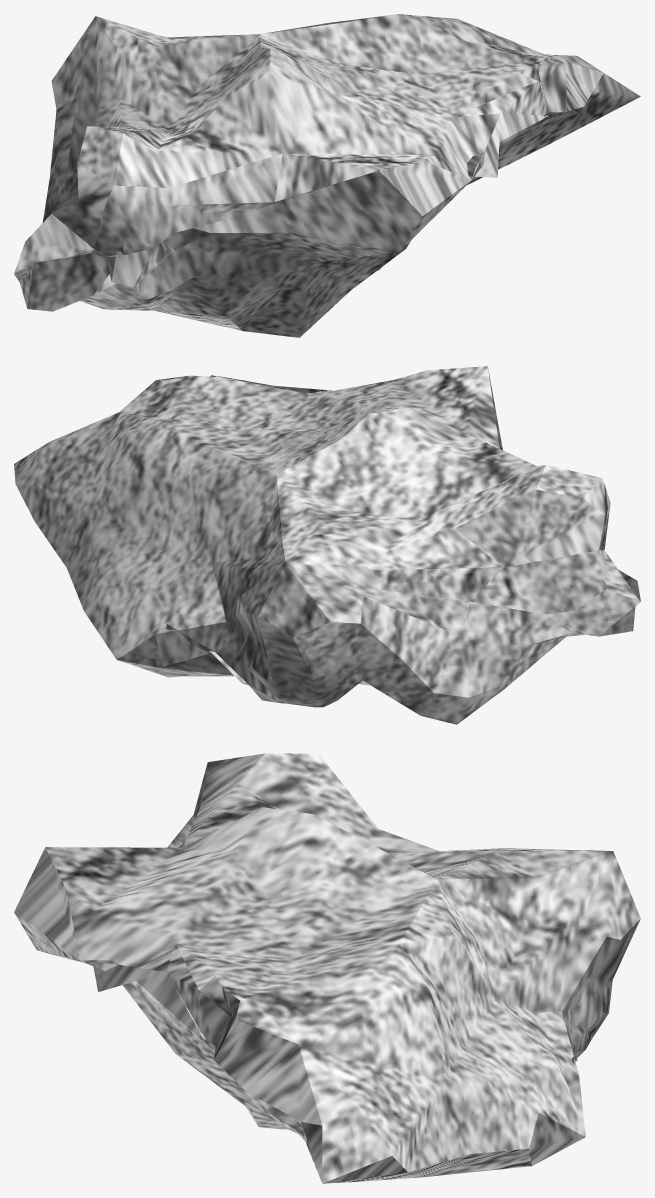
The model's file is Rock_Asset_03.fbx.
3 renders of one model, top to bottom at view 1: azimuth 30°, elevation 25°; view 2: azimuth 150°, elevation 25°; view 3: azimuth 270°, elevation 25°, orthographic. The views are drawn at different scales.
Parts seen in each view (by area): view 1: Rock_Asset; view 2: Rock_Asset; view 3: Rock_Asset.
Boxes of the visible parts, bbox=[...] form: Rock_Asset: bbox=[14, 14, 640, 337]; Rock_Asset: bbox=[14, 366, 640, 724]; Rock_Asset: bbox=[14, 753, 640, 1183].
Size of the model in its own units: 2.69 by 1.09 by 1.98.
1 material, 1 textured.
